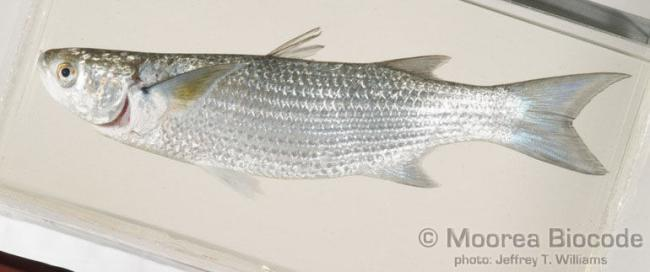fish: (37, 26, 633, 189)
